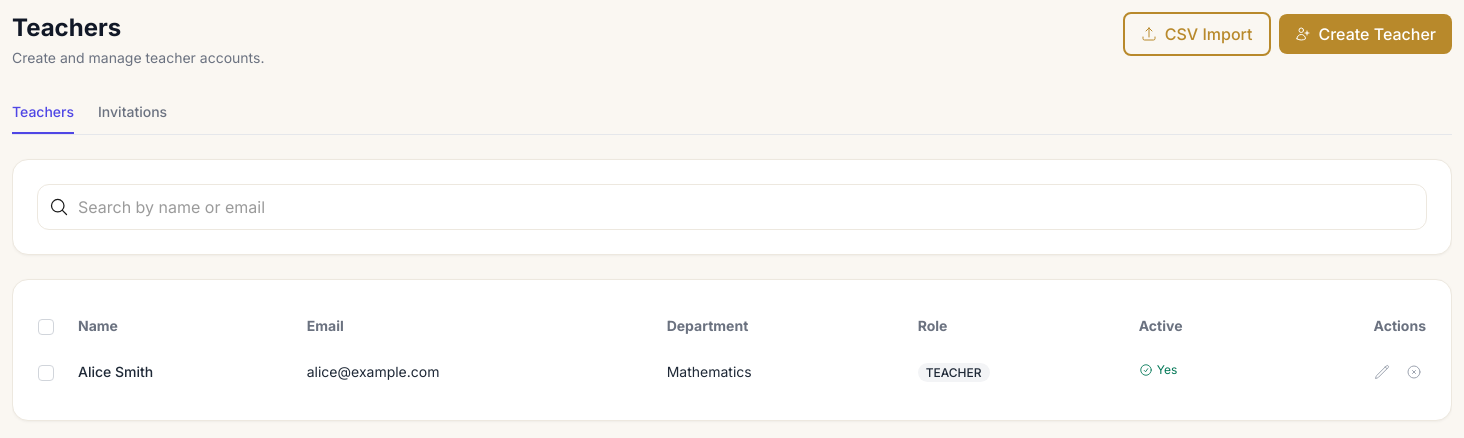
TeachersPage › invitations tab › shows empty state message when no invitations exist
This screenshot has width=1464, height=438.
Click the button "Invitations". click: click(133, 113)
box: [98,92,167,134]
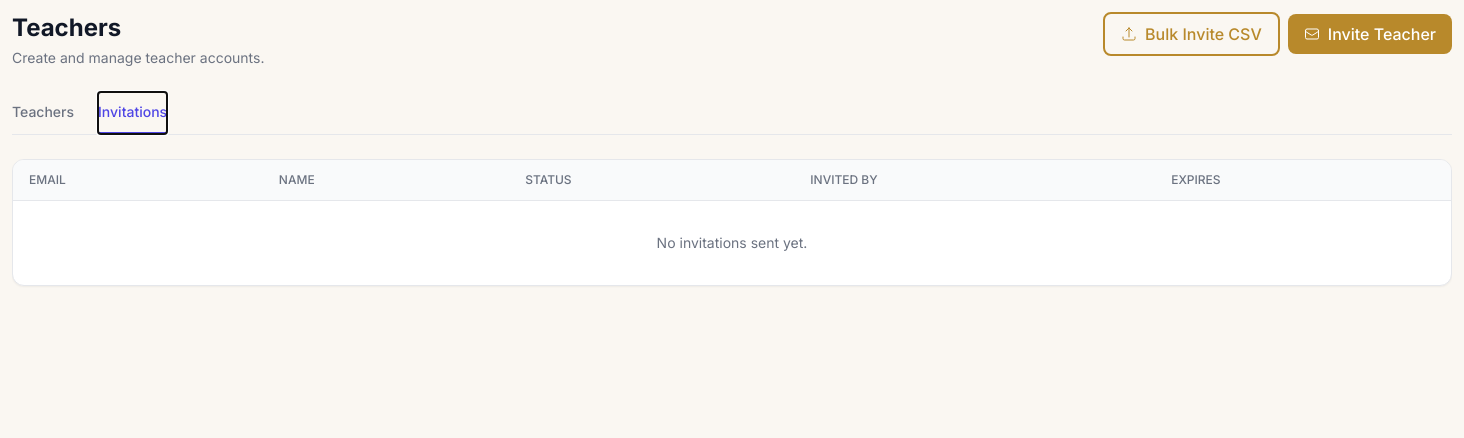
Check: the text "No invitations sent yet." is shown, box [13,200,1451,285]
